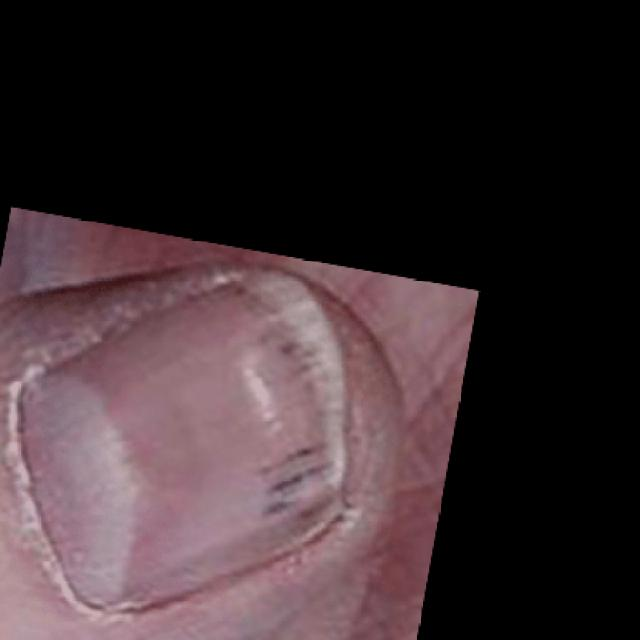Nail: (15, 271, 345, 614)
